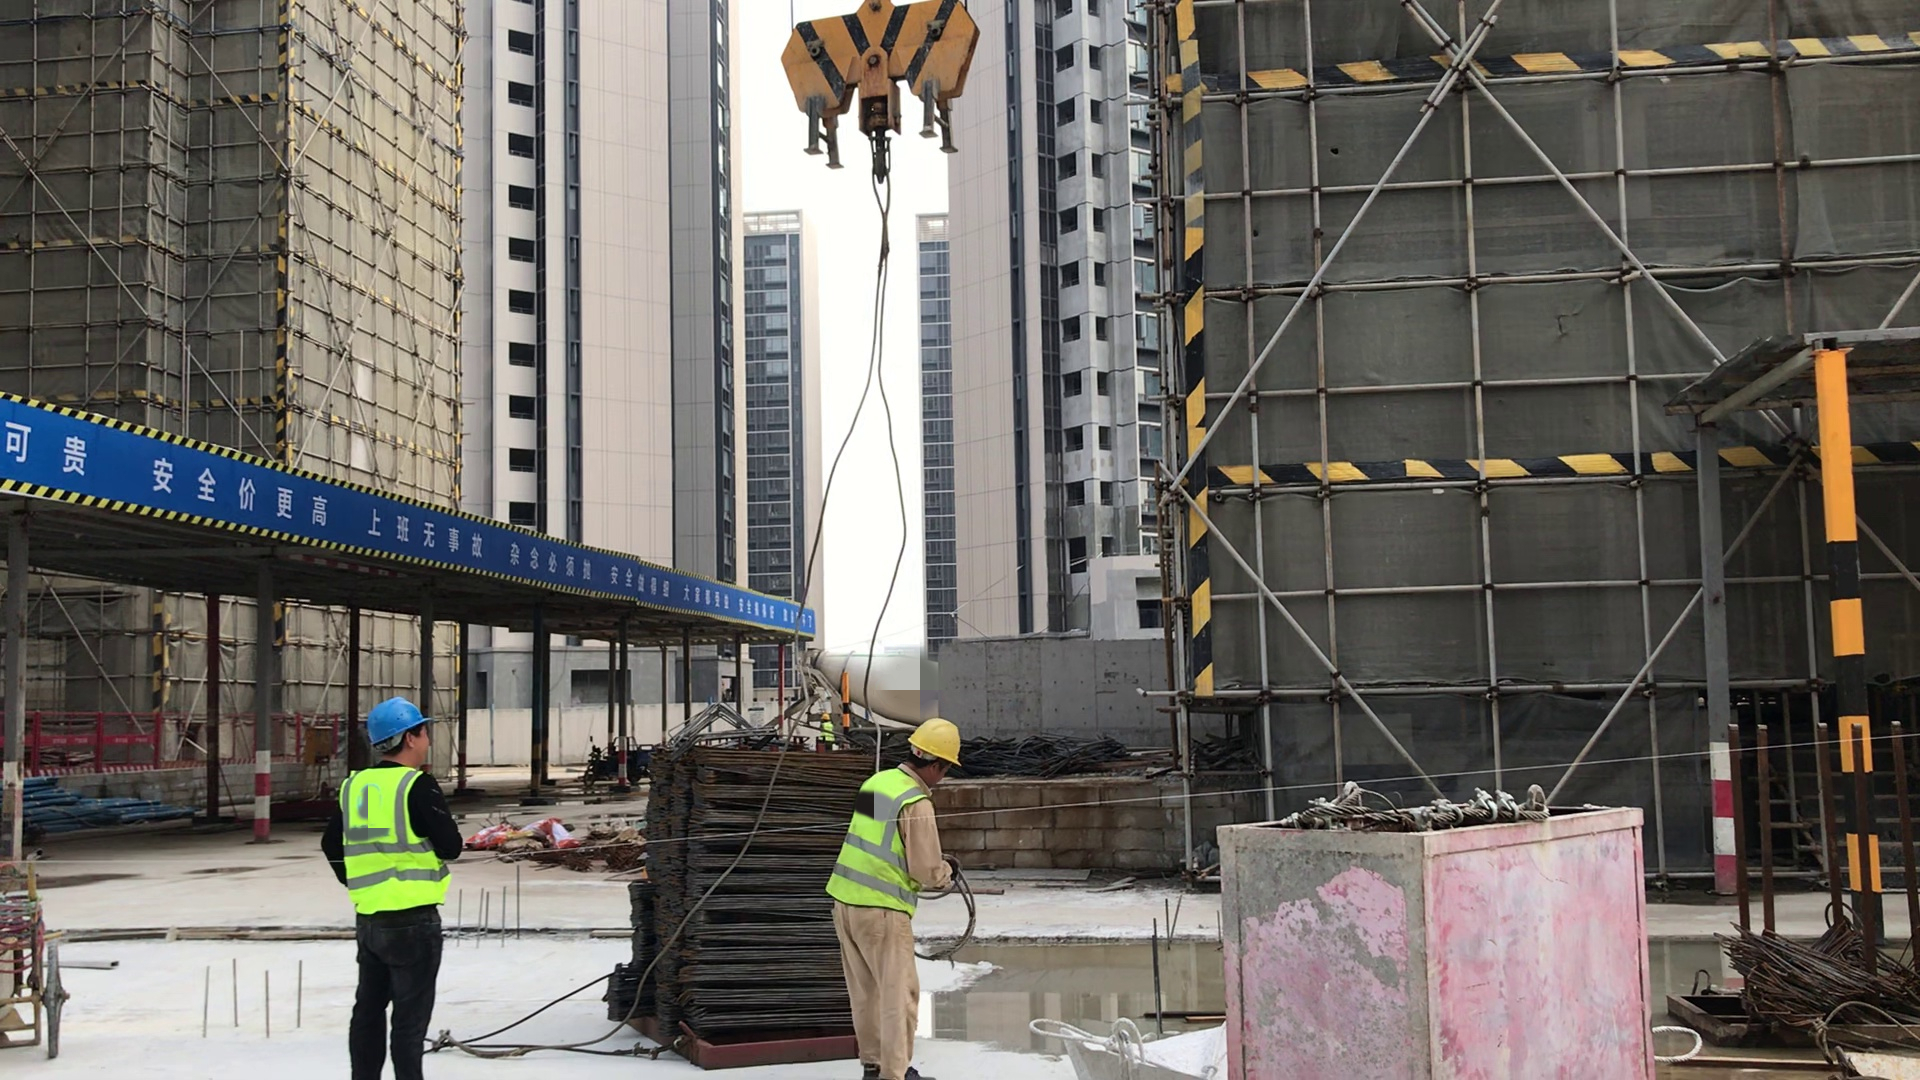ebox: (306, 724, 332, 762)
fence: (12, 701, 356, 779)
helmet: (367, 700, 434, 745), (907, 717, 965, 765), (818, 712, 831, 720)
hook: (776, 1, 977, 186)
hopper: (1020, 1015, 1231, 1080)
person: (326, 698, 461, 1080), (832, 715, 964, 1080), (814, 711, 838, 752)
slogan: (4, 392, 333, 535), (364, 499, 615, 593)
vest: (338, 767, 455, 908), (832, 766, 923, 915), (821, 722, 835, 742)
